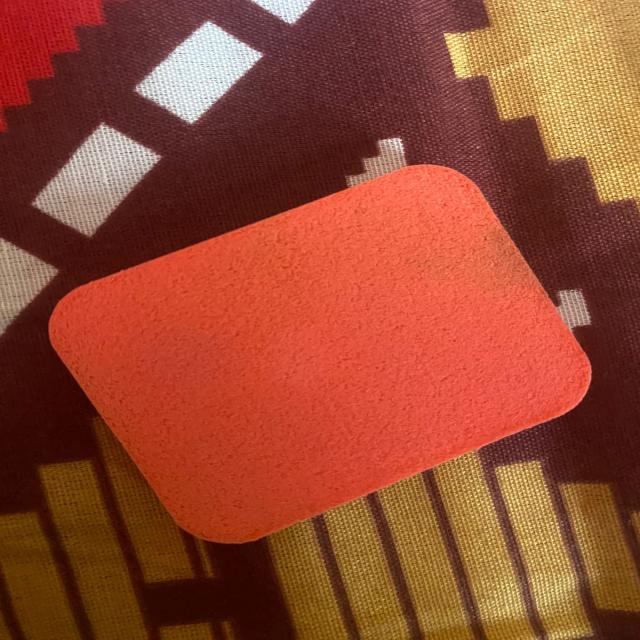beauty blender: (27, 137, 609, 559)
